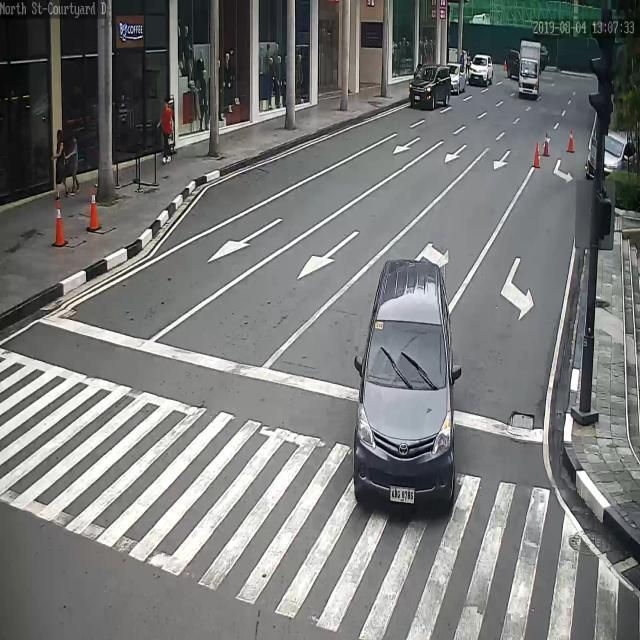car: (354, 259, 454, 505), (585, 130, 640, 178), (409, 61, 450, 111), (469, 53, 491, 88), (446, 60, 466, 94), (506, 48, 519, 78)
motorcycle: (518, 40, 541, 96)
